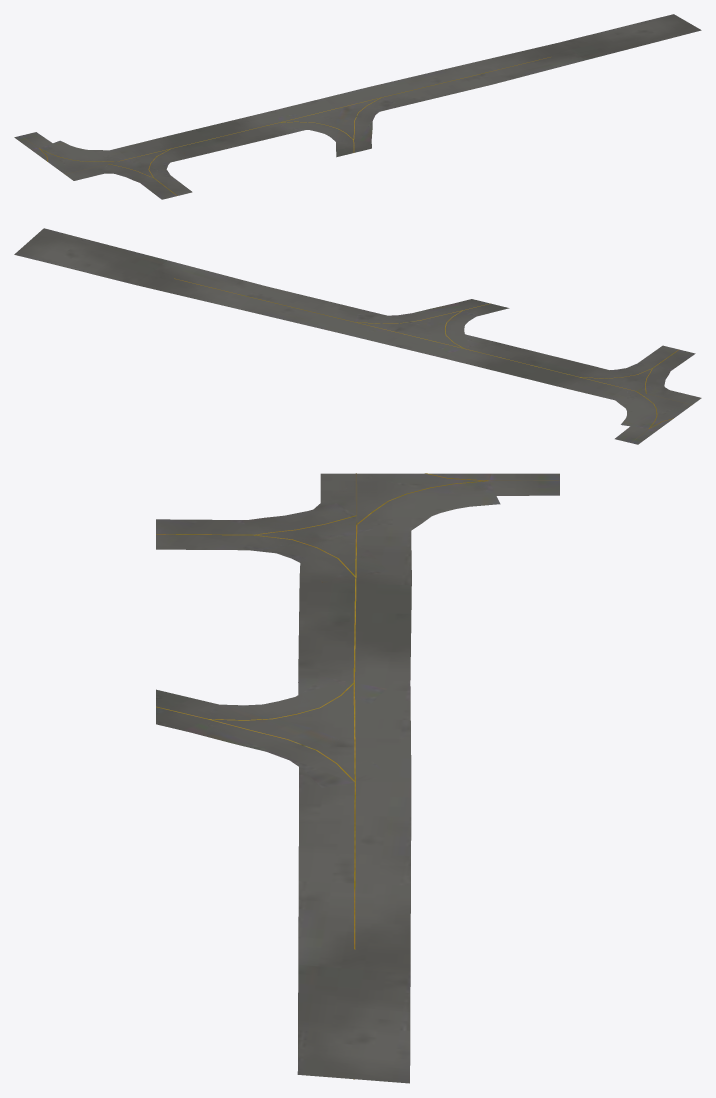
File: sbgr_taxi_secao.leve.glb
The picture shows the model from 3 angles, top to bottom: view 1: azimuth 30°, elevation 25°; view 2: azimuth 150°, elevation 25°; view 3: azimuth 270°, elevation 25°; orthographic projection. The views are drawn at different scales.
Parts seen in each view (by area): view 1: sbgr_taxi_secao; view 2: sbgr_taxi_secao; view 3: sbgr_taxi_secao.
Boxes of the visible parts, left/top/right/bottom form: sbgr_taxi_secao: left=14, top=14, right=701, bottom=199; sbgr_taxi_secao: left=14, top=228, right=701, bottom=444; sbgr_taxi_secao: left=156, top=473, right=559, bottom=1083.
Size of the model in its own units: 320 by 2.38 by 90.01.
Materials: 2 (2 with a texture image).
